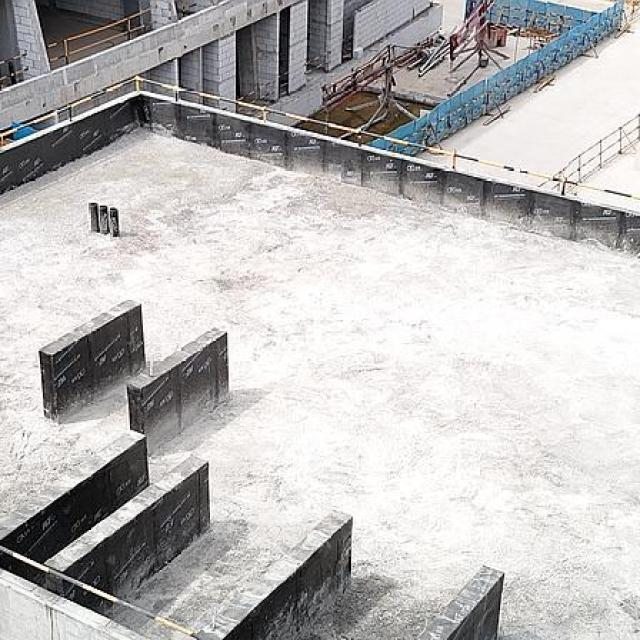edge_guardrail: (0, 74, 640, 210), (47, 7, 154, 67), (0, 51, 29, 86), (238, 82, 275, 107), (304, 51, 330, 76), (278, 72, 289, 97)
